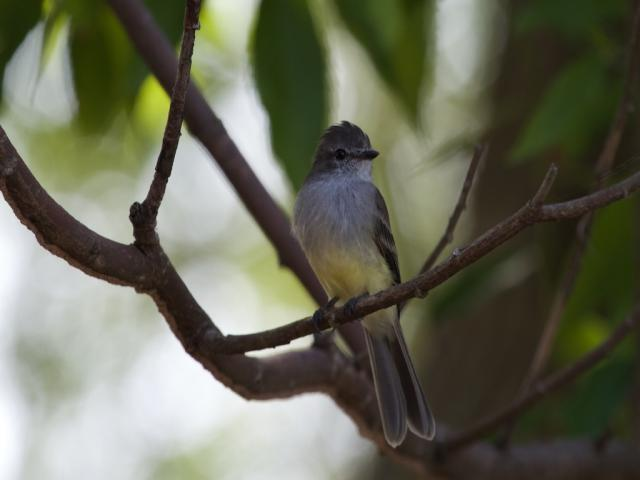Bird: (285, 129, 426, 406)
